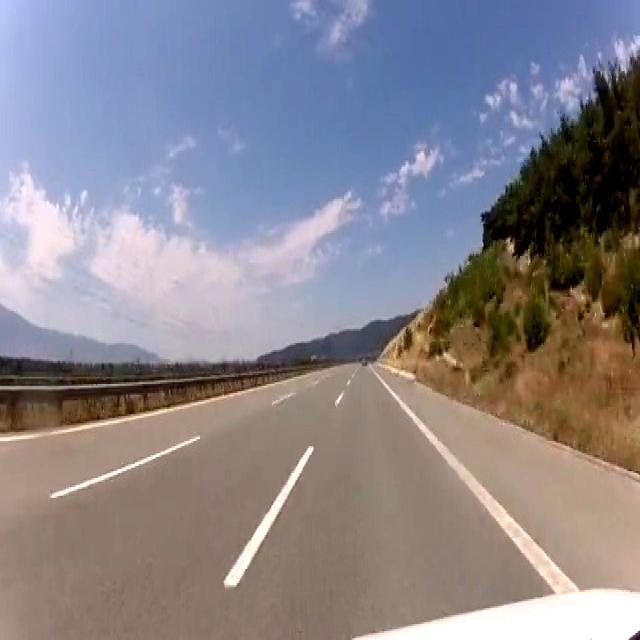lane: (370, 368, 579, 592), (224, 446, 313, 587), (50, 436, 199, 498), (335, 391, 343, 406)
road: (0, 364, 551, 636), (377, 370, 639, 590)
